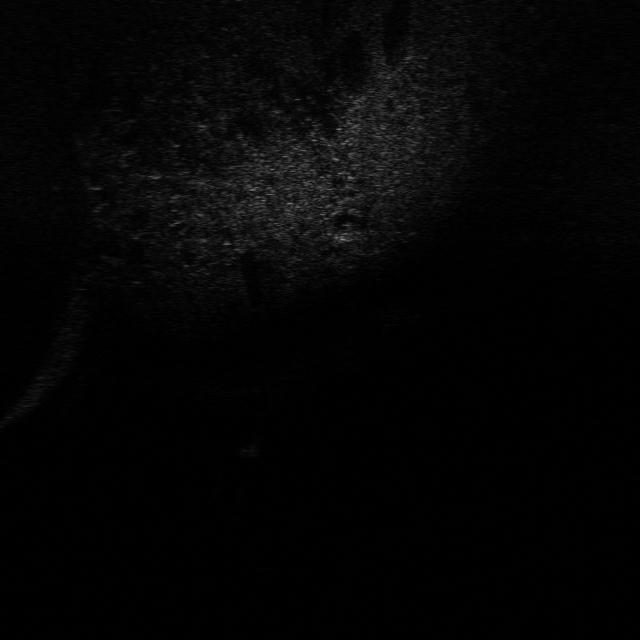cylinder: (237, 429, 271, 462)
